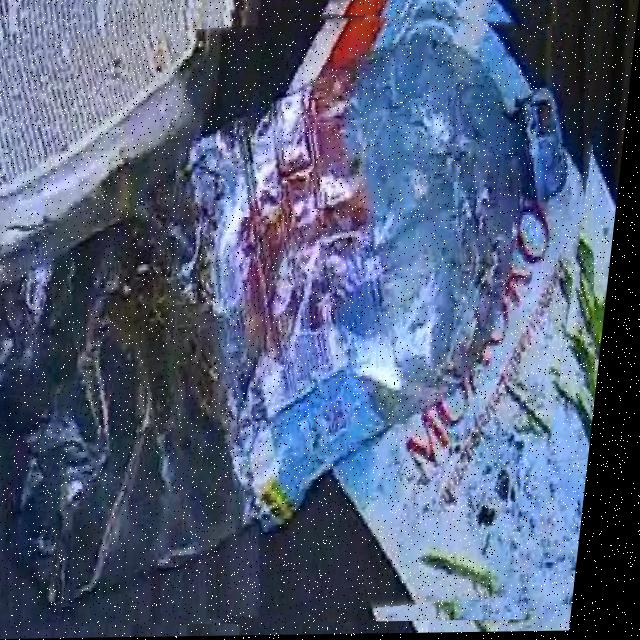litter: (0, 14, 589, 627)
